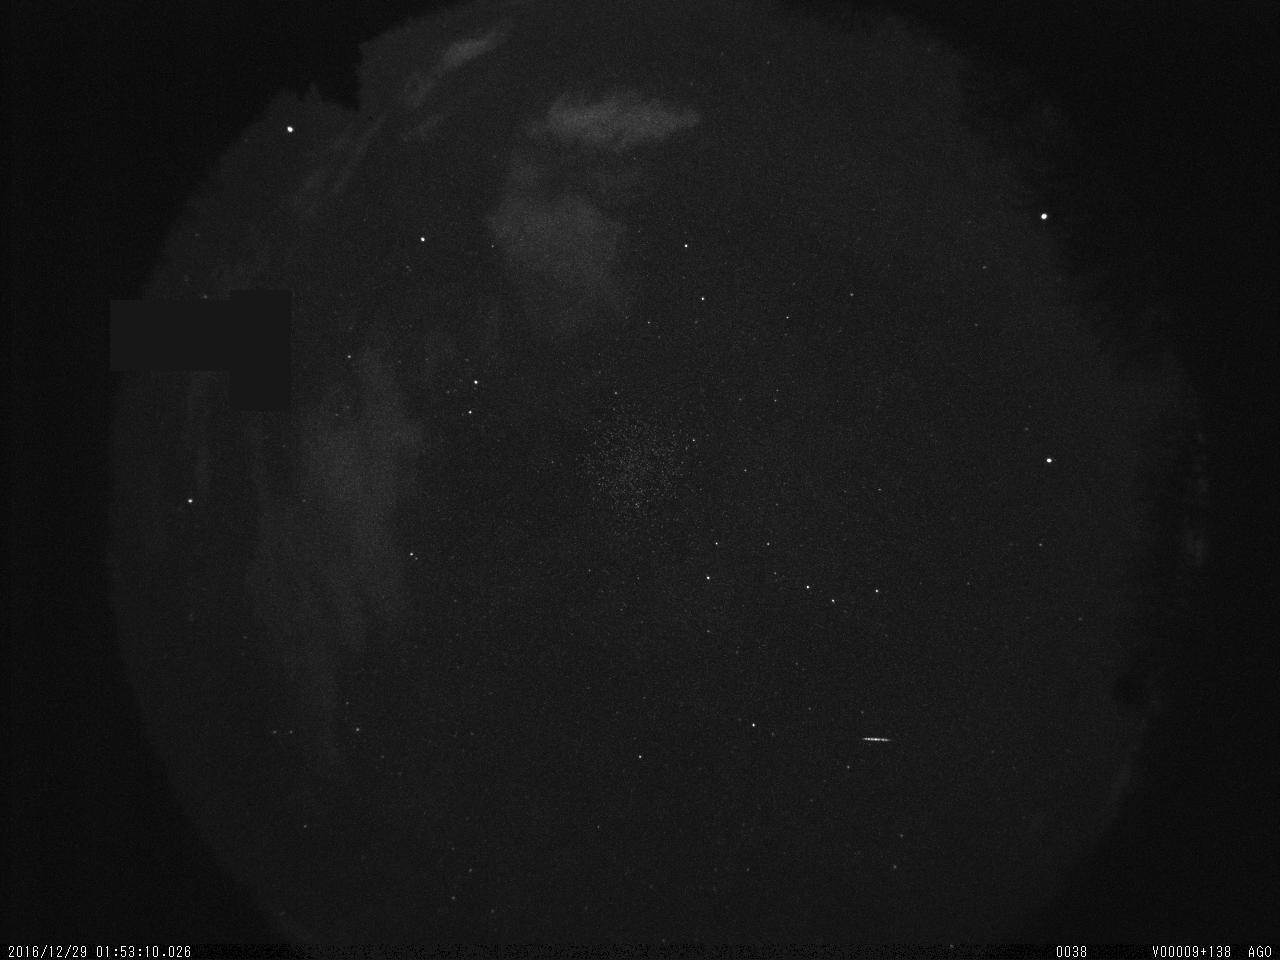Meteor: (858, 733, 892, 744)
